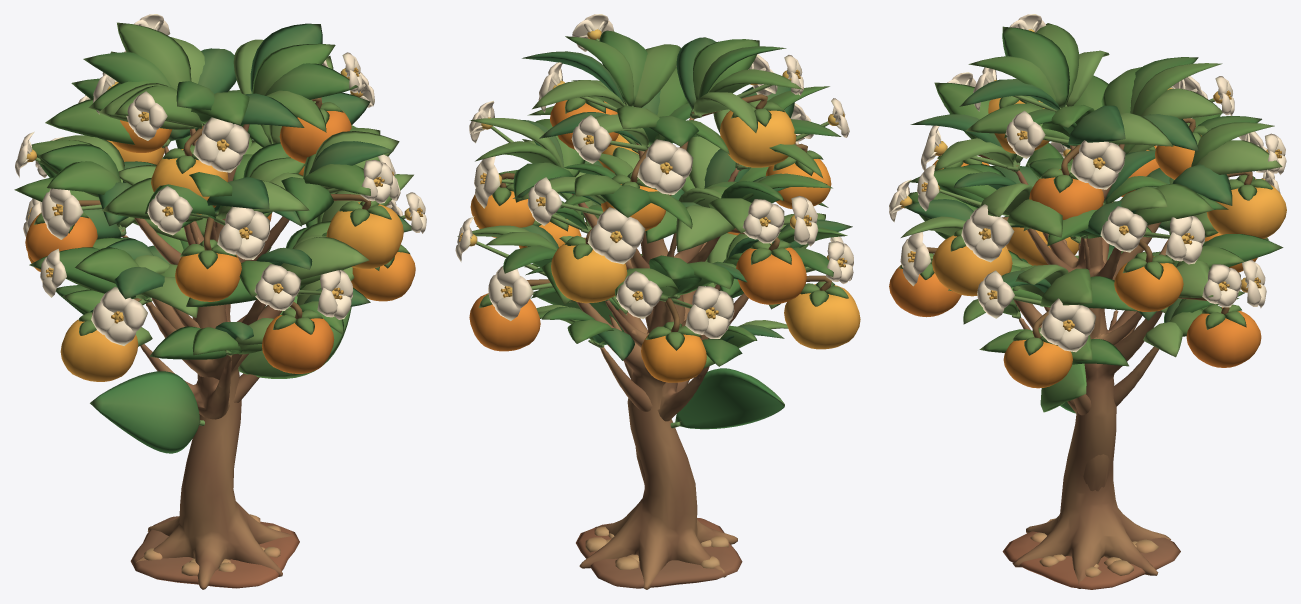
The model's file is tree.glb.
The picture shows the model from 3 angles, left to right: view 1: azimuth 30°, elevation 25°; view 2: azimuth 150°, elevation 25°; view 3: azimuth 270°, elevation 25°; orthographic projection. The views are drawn at different scales.
Parts seen in each view (by area): view 1: stage-2-leaf-sprays, stage-3-fruit, stage-2-blossoms, stage-2-trunk-roots-branches, stage-1-leaf-sprays, sprout-leaf-left-blade, stage-0-soil, stage-1-trunk-roots-branches, sprout-leaf-right-blade; view 2: stage-2-leaf-sprays, stage-3-fruit, stage-2-blossoms, stage-2-trunk-roots-branches, stage-1-leaf-sprays, sprout-leaf-left-blade, stage-0-soil, stage-1-trunk-roots-branches, sprout-leaf-right-blade; view 3: stage-2-leaf-sprays, stage-3-fruit, stage-2-blossoms, stage-2-trunk-roots-branches, stage-1-leaf-sprays, stage-0-soil, stage-1-trunk-roots-branches, sprout-leaf-right-blade.
Part boxes in pixels (x1,y1,x2,y2): stage-2-leaf-sprays: (14,22,413,317); stage-3-fruit: (25,97,415,381); stage-2-blossoms: (15,14,426,345); stage-2-trunk-roots-branches: (122,124,294,589); stage-1-leaf-sprays: (55,142,370,359); sprout-leaf-left-blade: (90,371,204,453); stage-0-soil: (130,514,299,588); stage-1-trunk-roots-branches: (140,222,265,419); sprout-leaf-right-blade: (238,296,351,378); stage-2-leaf-sprays: (457,30,852,309); stage-3-fruit: (469,94,860,382); stage-2-blossoms: (455,14,853,338); stage-2-trunk-roots-branches: (572,116,748,589); stage-1-leaf-sprays: (524,147,791,368); sprout-leaf-left-blade: (670,368,784,429); stage-0-soil: (576,518,742,588); stage-1-trunk-roots-branches: (600,233,720,485); sprout-leaf-right-blade: (532,291,626,332); stage-2-leaf-sprays: (901,23,1283,320); stage-3-fruit: (889,95,1286,388); stage-2-blossoms: (889,14,1286,352); stage-2-trunk-roots-branches: (1012,144,1170,588); stage-1-leaf-sprays: (963,144,1245,366); stage-0-soil: (1002,518,1180,589); stage-1-trunk-roots-branches: (1019,238,1159,491); sprout-leaf-right-blade: (1040,363,1086,412).
Bounding box in the file's own units: 2.75 × 3.8 × 2.74.
